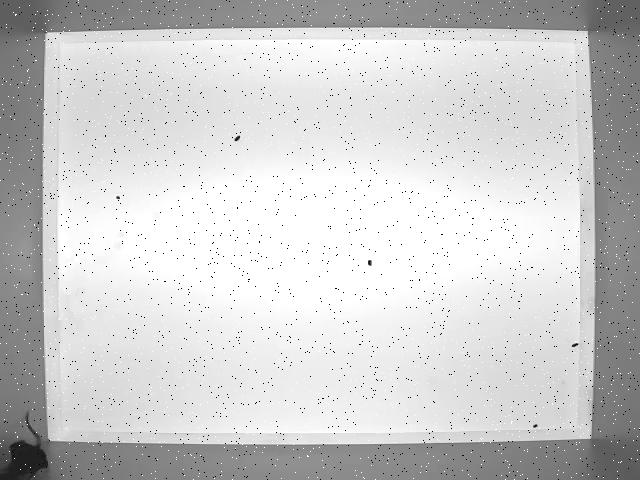Tikus: (3, 409, 51, 480)
